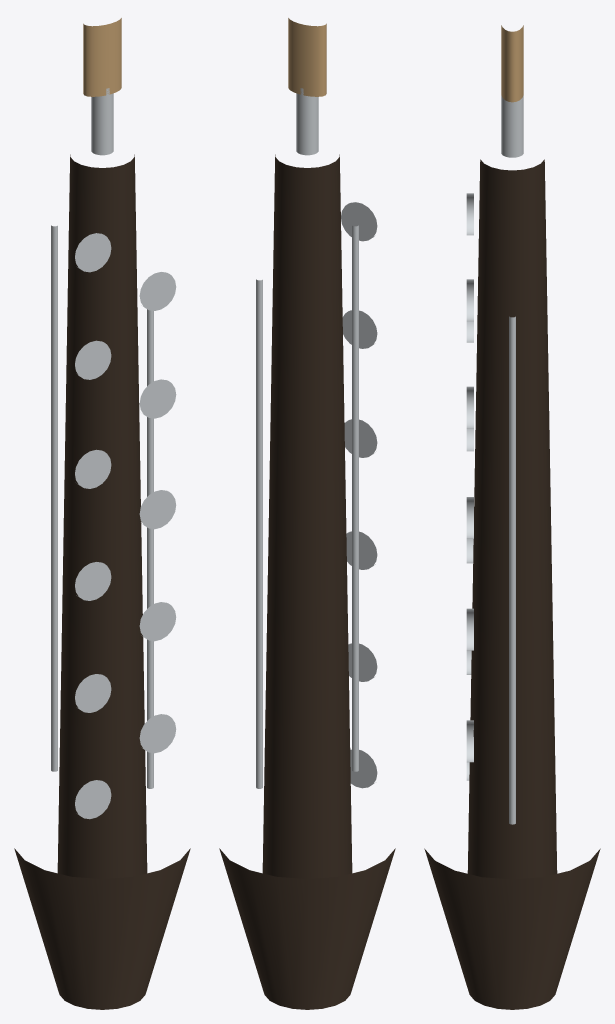
The model's file is bass-oboe.glb.
The picture shows the model from 3 angles, left to right: view 1: azimuth 30°, elevation 25°; view 2: azimuth 150°, elevation 25°; view 3: azimuth 270°, elevation 25°; orthographic projection.
Visible parts, largest first — view 1: body, bell, left_rod, double_reed, right_rod, staple, key__k04, key__k06, key__k08, key__k09, key__k02, key__k05 (+5 smaller); view 2: body, bell, left_rod, right_rod, double_reed, staple, key__k01, key__k03, key__k05, key__k07, key__k11, key__k09; view 3: body, bell, right_rod, double_reed, staple.
Part boxes in pixels (x1,y1,x2,y2): body: (57, 154, 147, 878); bell: (14, 848, 190, 1009); left_rod: (51, 225, 57, 771); double_reed: (83, 18, 121, 96); right_rod: (147, 309, 153, 788); staple: (91, 88, 113, 155); key__k04: (139, 379, 176, 418); key__k06: (139, 490, 176, 529); key__k08: (139, 602, 176, 641); key__k09: (75, 674, 111, 712); key__k02: (139, 272, 176, 310); key__k05: (75, 449, 111, 488); body: (262, 154, 352, 878); bell: (219, 848, 395, 1009); left_rod: (352, 225, 358, 771); right_rod: (256, 279, 262, 788); double_reed: (288, 18, 326, 96); staple: (296, 88, 318, 155); key__k01: (341, 202, 377, 241); key__k03: (342, 310, 377, 348); key__k05: (344, 419, 377, 457); key__k07: (346, 531, 377, 569); key__k11: (350, 749, 377, 788); key__k09: (348, 643, 377, 681); body: (467, 159, 557, 879); bell: (424, 848, 600, 1009); right_rod: (509, 316, 515, 824); double_reed: (501, 25, 523, 102); staple: (501, 95, 523, 157).
Bounding box in the file's own units: 1.26 × 7.52 × 1.24.
